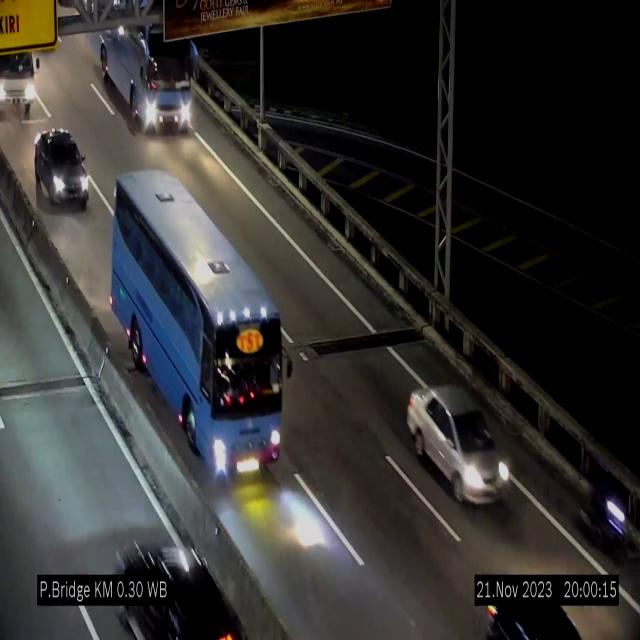Bus: (108, 167, 294, 486), (86, 24, 200, 136)
Car: (107, 522, 237, 640), (406, 377, 511, 508), (475, 574, 585, 640), (35, 130, 89, 210)
Motorcycle: (579, 454, 629, 562)
Truck: (0, 30, 53, 137)
